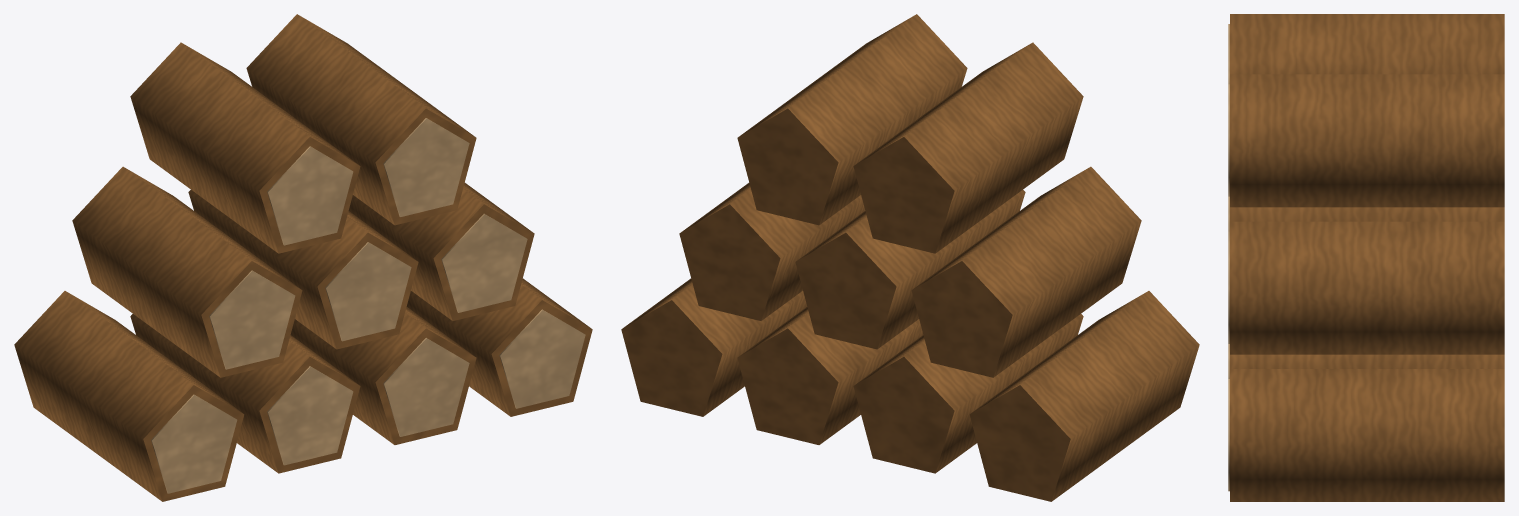
File: Furn_Firewood.fbx
The picture shows the model from 3 angles, left to right: view 1: azimuth 30°, elevation 25°; view 2: azimuth 150°, elevation 25°; view 3: azimuth 270°, elevation 25°; orthographic projection. The views are drawn at different scales.
Parts seen in each view (by area): view 1: Furn_Firewood_Mesh; view 2: Furn_Firewood_Mesh; view 3: Furn_Firewood_Mesh.
Boxes of the visible parts, x1=… form: Furn_Firewood_Mesh: x1=14, y1=14, x2=592, y2=501; Furn_Firewood_Mesh: x1=621, y1=14, x2=1199, y2=501; Furn_Firewood_Mesh: x1=1228, y1=14, x2=1504, y2=501.
Bounding box in the file's own units: 1 × 0.7 × 0.5.
